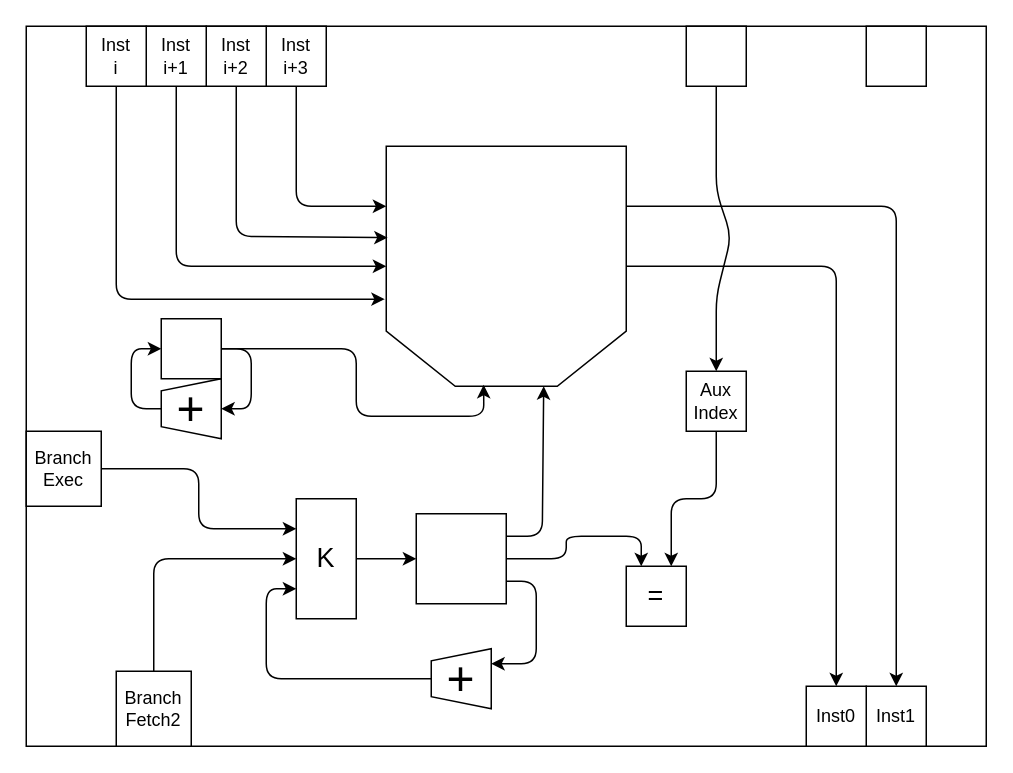
Some shapes in this 1013 by 773 pixel diagram are drawn without their labels. The shapes that lost their labels are listed below. From the top down, each one's box as (x1, y1, x2, y2) in pixels, then its label:
(685, 25, 746, 86): Line Index
(865, 25, 926, 86): New Line
(385, 145, 626, 386): Memory
(160, 317, 221, 379): Aux Writer
(415, 512, 506, 604): PC
